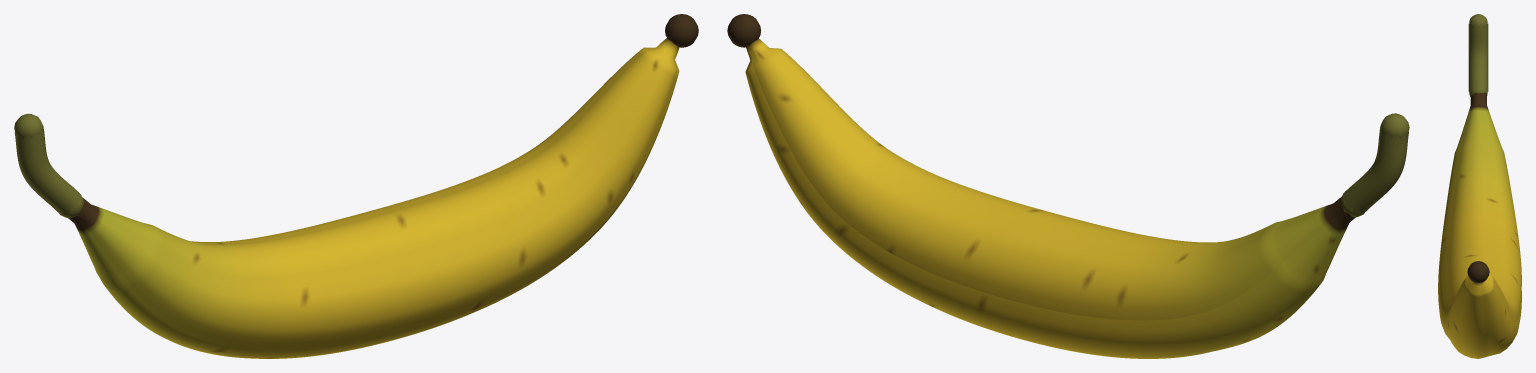
The model's file is banana.glb.
The picture shows the model from 3 angles, left to right: view 1: azimuth 30°, elevation 25°; view 2: azimuth 150°, elevation 25°; view 3: azimuth 270°, elevation 25°; orthographic projection. The views are drawn at different scales.
Visible parts, largest first — view 1: Banana; view 2: Banana; view 3: Banana.
Part boxes in pixels (x1=…): Banana: x1=14, y1=14, x2=698, y2=358; Banana: x1=727, y1=14, x2=1409, y2=358; Banana: x1=1438, y1=14, x2=1521, y2=358.
Bounding box in the file's own units: 0.37 × 0.1599 × 0.0604.
